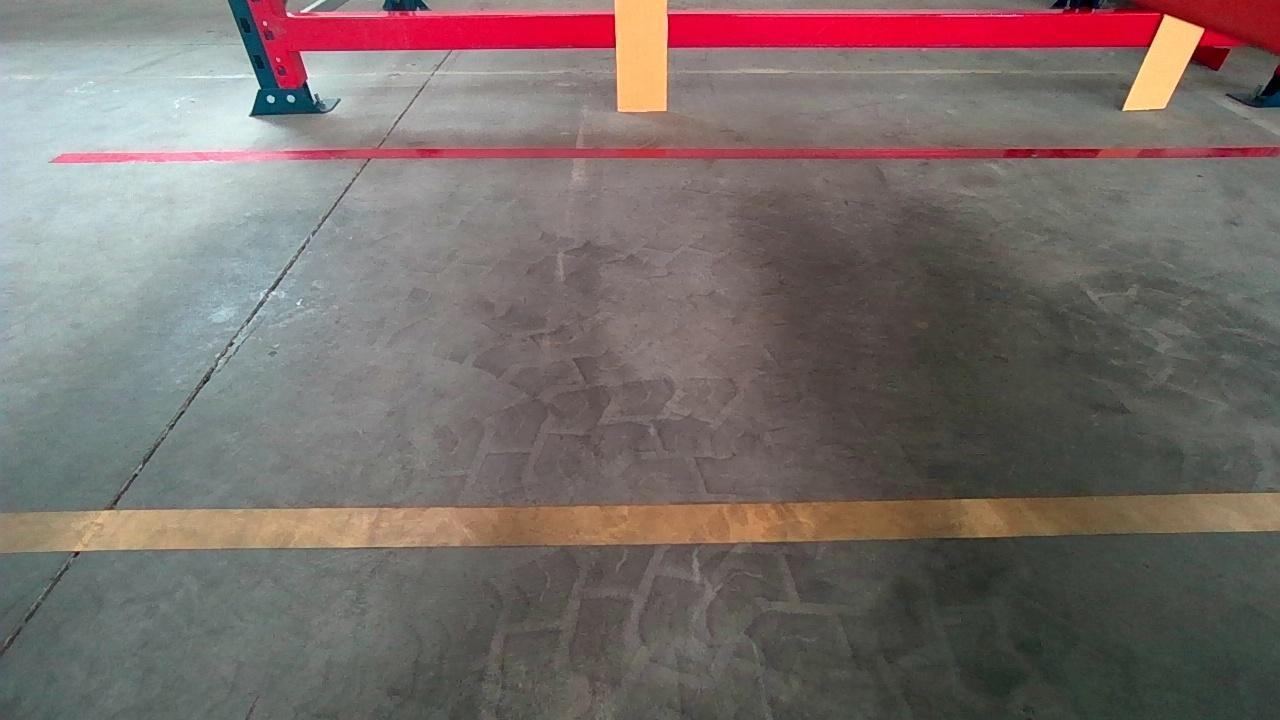h_rack: (287, 3, 1141, 52)
orange_strip: (1123, 13, 1206, 108), (616, 0, 669, 108)
red_line: (51, 142, 1269, 165)
yellow_line: (3, 491, 1279, 555)
